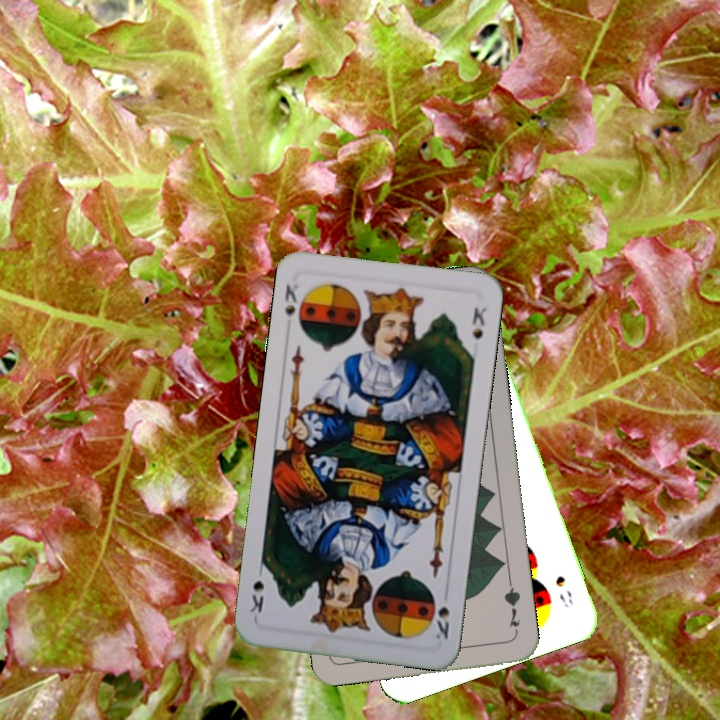G7: (500, 578, 523, 630)
S8: (551, 571, 575, 610)
SK: (429, 585, 455, 644), (280, 280, 301, 320)
